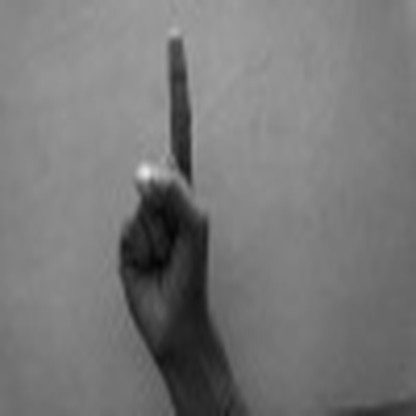d: (103, 24, 226, 351)
